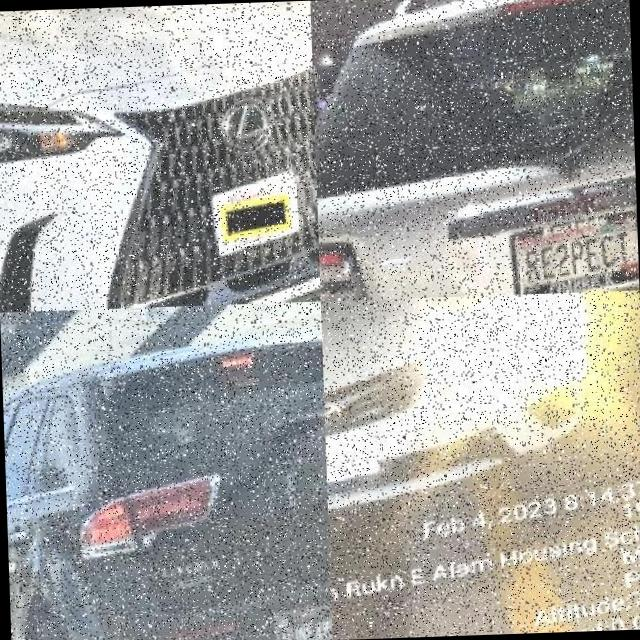LicensePlate: (508, 215, 638, 292), (210, 178, 298, 263), (324, 433, 399, 502), (272, 608, 330, 640)
